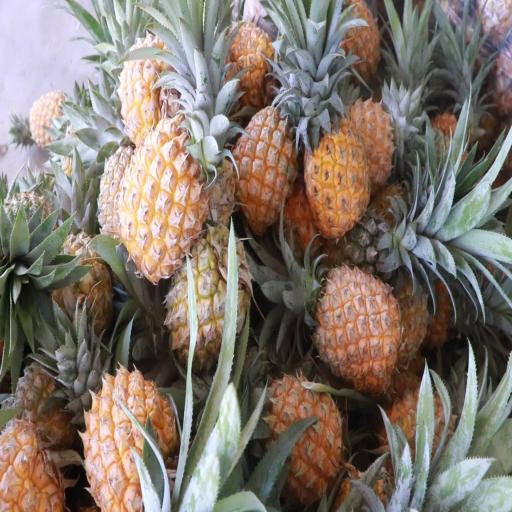------------------------------: (170, 240, 248, 369)
Pineapple - v8 v1: (85, 368, 174, 512), (121, 130, 205, 275), (316, 271, 400, 386), (266, 379, 350, 494), (232, 108, 302, 230), (305, 122, 370, 232), (117, 40, 180, 136), (224, 22, 274, 100)
